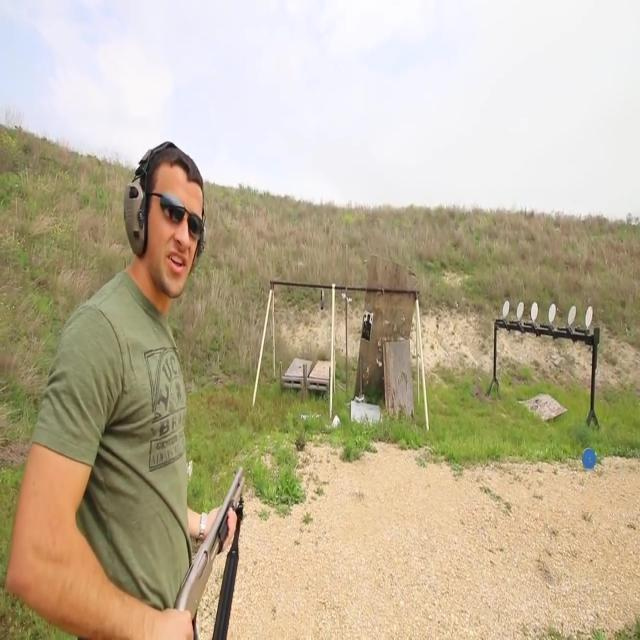Weapon: (162, 456, 266, 640)
